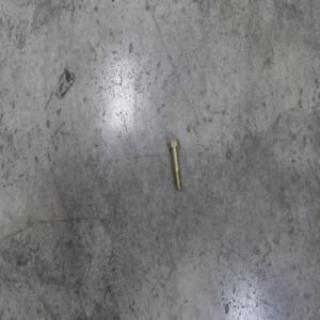Bolttrack_idkeyframe: (167, 138, 181, 191)
